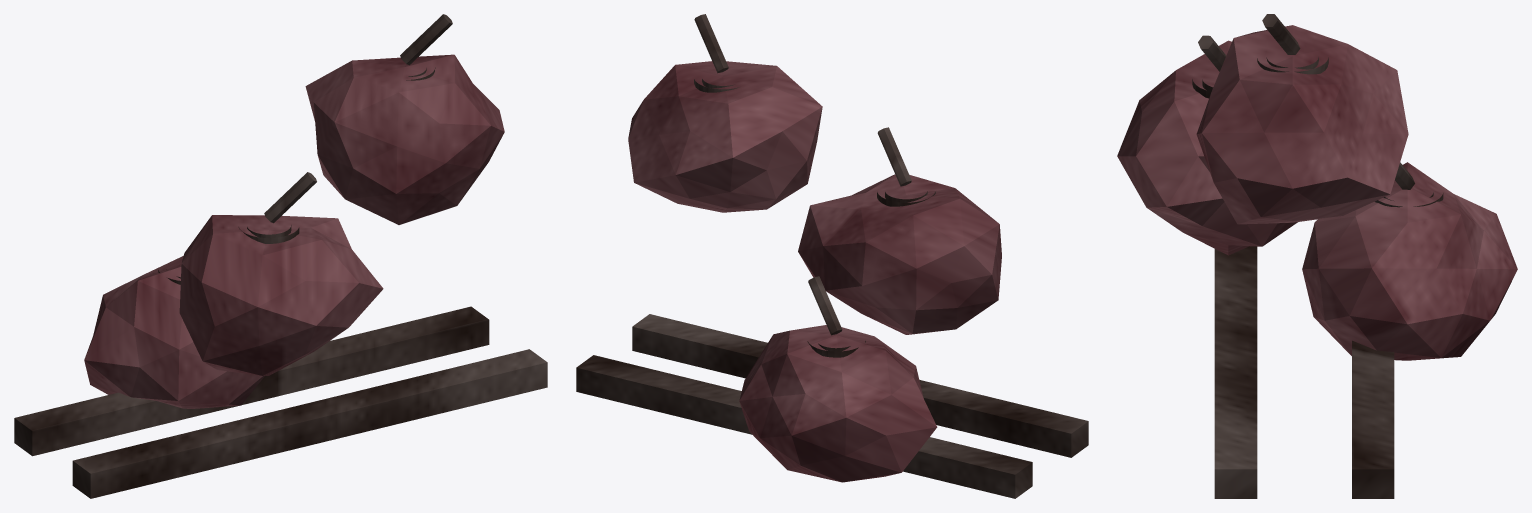
Rendered from 0817_sack_stack_17.glb.
3 renders of one model, left to right at view 1: azimuth 30°, elevation 25°; view 2: azimuth 150°, elevation 25°; view 3: azimuth 270°, elevation 25°, orthographic. The views are drawn at different scales.
Visible parts, largest first — view 1: cloth, wood_dark; view 2: cloth, wood_dark; view 3: cloth, wood_dark.
Part boxes in pixels (x1,y1,x2,y2): cloth: [84, 54, 504, 408]; wood_dark: [14, 14, 547, 498]; cloth: [628, 61, 1001, 482]; wood_dark: [576, 14, 1088, 498]; cloth: [1117, 25, 1517, 360]; wood_dark: [1192, 14, 1443, 498].
Bounding box in the file's own units: 1.9 × 1.56 × 1.23.
2 materials, 2 textured.
